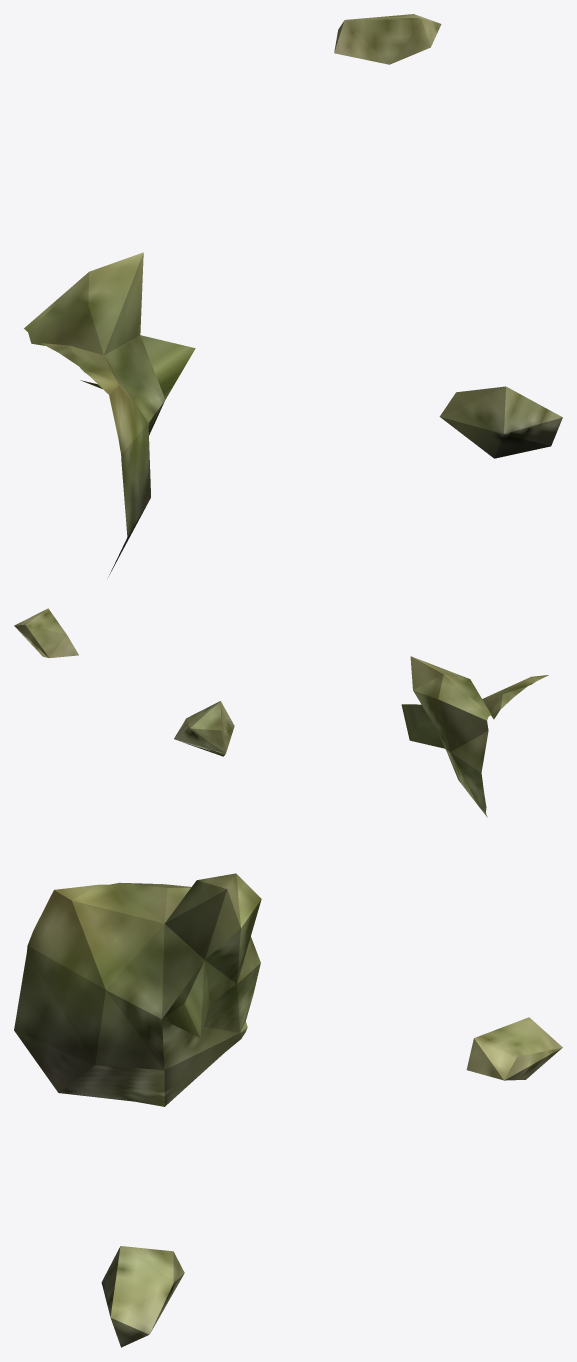
3 views of the same model, one above another, from view 1: azimuth 30°, elevation 25°; view 2: azimuth 150°, elevation 25°; view 3: azimuth 270°, elevation 25° (orthographic). The views are drawn at different scales.
Size of the model in its own units: 0.7311 by 0.4013 by 0.5918.
1 material, 1 textured.
